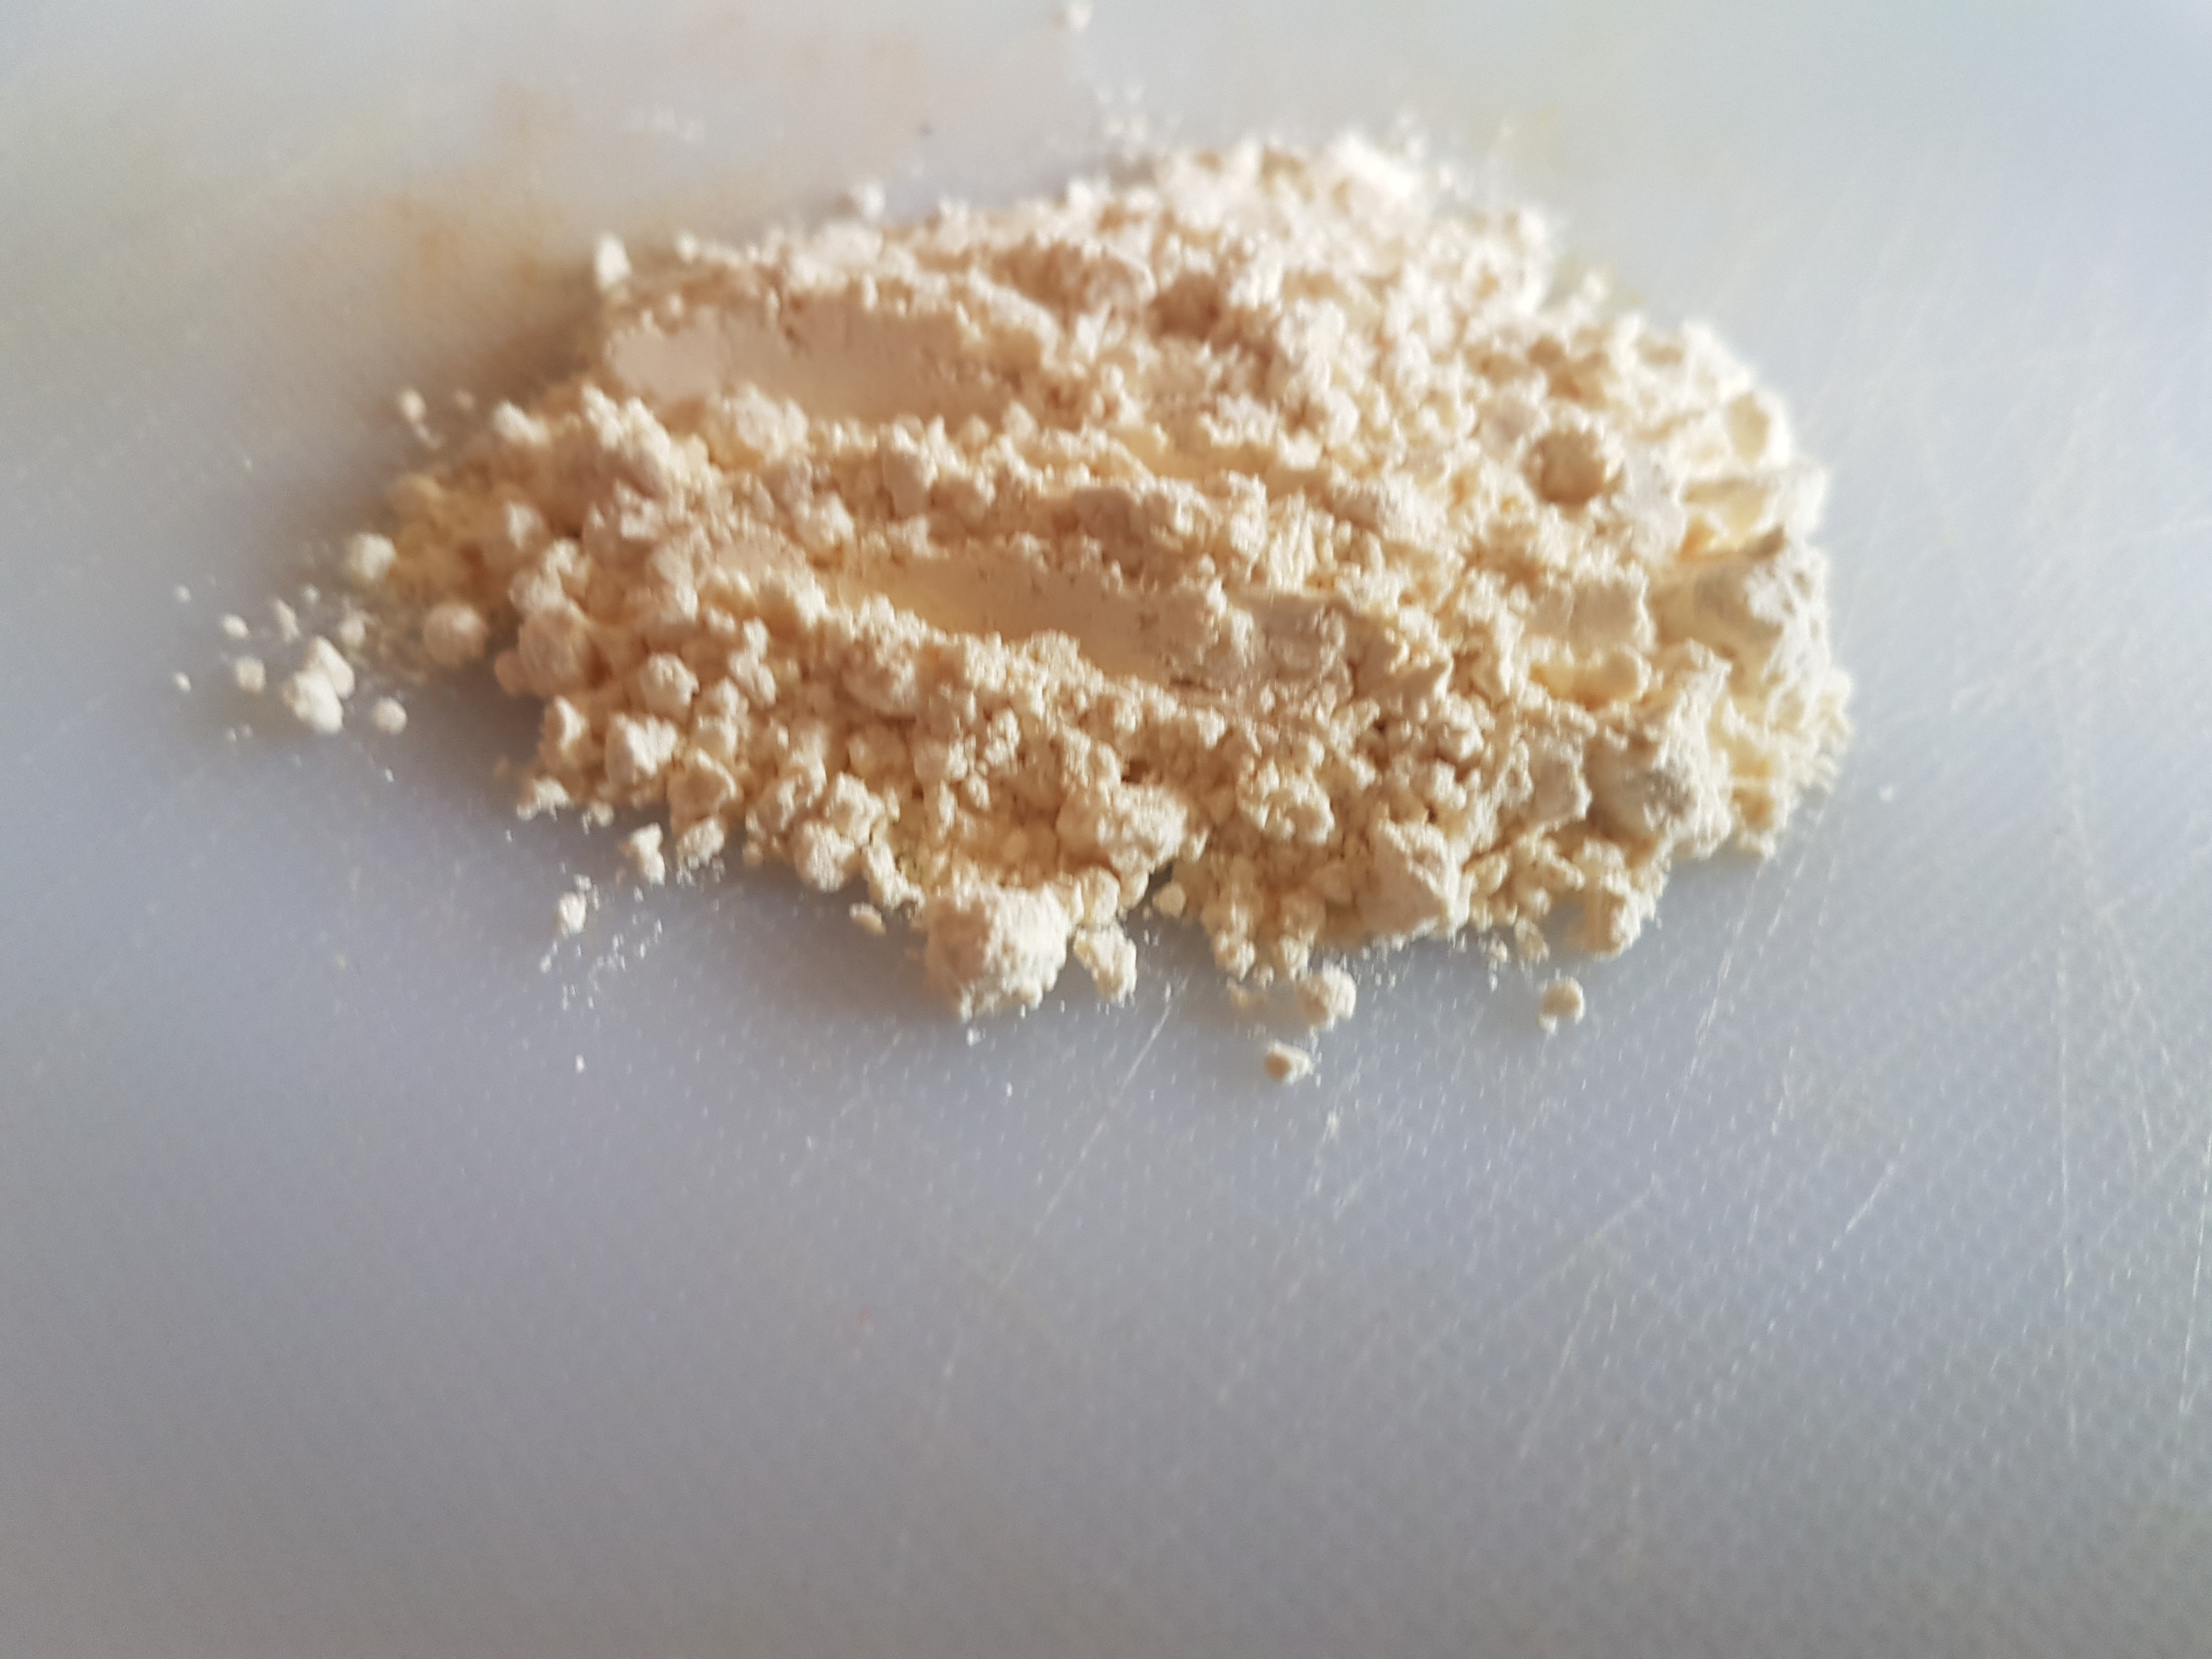Gram Flour: (125, 125, 2003, 1182)
